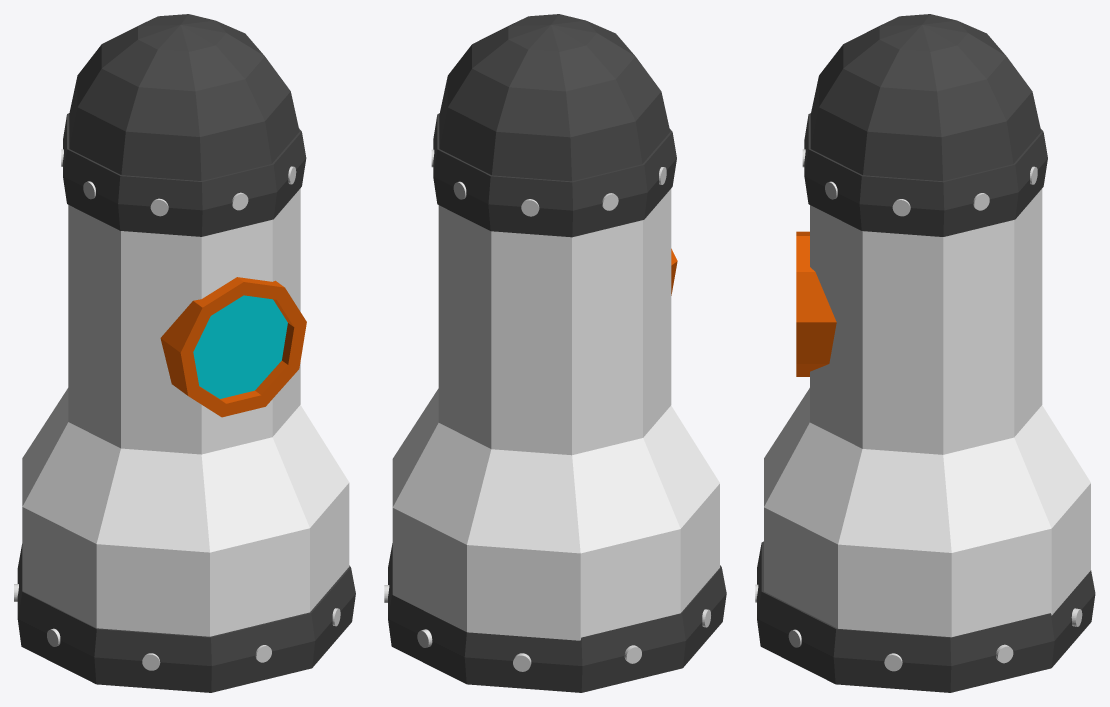
File: Rocket Thin To Wide 1.fbx
3 renders of one model, left to right at view 1: azimuth 30°, elevation 25°; view 2: azimuth 150°, elevation 25°; view 3: azimuth 270°, elevation 25°, orthographic.
Parts seen in each view (by area): view 1: Окружность.018; view 2: Окружность.018; view 3: Окружность.018.
Boxes of the visible parts, x1,y1,x2,y2 form: Окружность.018: (14, 14, 355, 692); Окружность.018: (384, 14, 726, 692); Окружность.018: (755, 14, 1095, 692).
Bounding box in the file's own units: 287 × 550 × 284.
